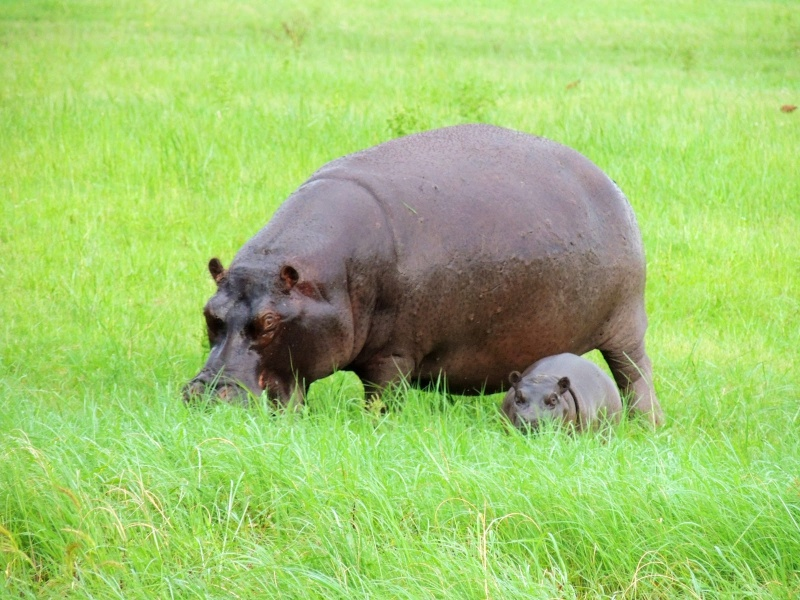hipopotamo: (183, 122, 675, 425), (499, 350, 626, 444)
